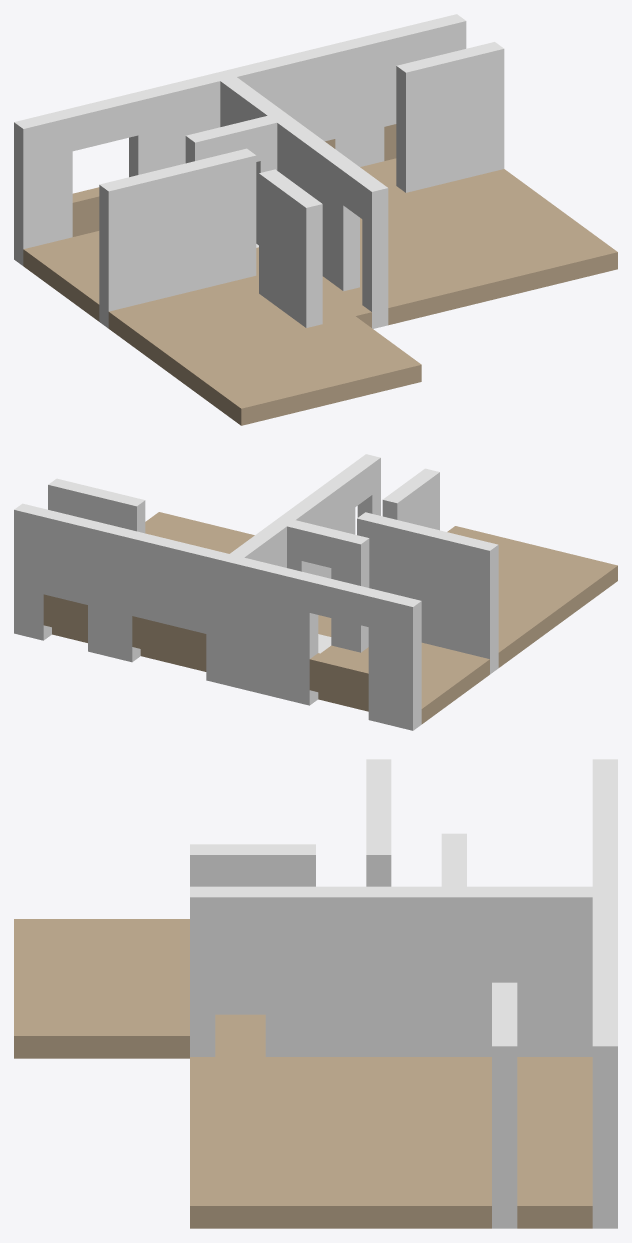
The picture shows the model from 3 angles, top to bottom: view 1: azimuth 30°, elevation 25°; view 2: azimuth 150°, elevation 25°; view 3: azimuth 270°, elevation 25°; orthographic projection. The views are drawn at different scales.
Parts seen in each view (by area): view 1: imagetostl_mesh0, imagetostl_mesh2; view 2: imagetostl_mesh0, imagetostl_mesh2; view 3: imagetostl_mesh0, imagetostl_mesh2.
Part boxes in pixels (bbox=[...]): imagetostl_mesh0: bbox=[14, 14, 504, 328]; imagetostl_mesh2: bbox=[23, 124, 617, 425]; imagetostl_mesh0: bbox=[14, 454, 498, 730]; imagetostl_mesh2: bbox=[43, 512, 617, 724]; imagetostl_mesh0: bbox=[190, 759, 617, 1228]; imagetostl_mesh2: bbox=[14, 919, 592, 1228].
Size of the model in its own units: 412 by 122 by 366.
